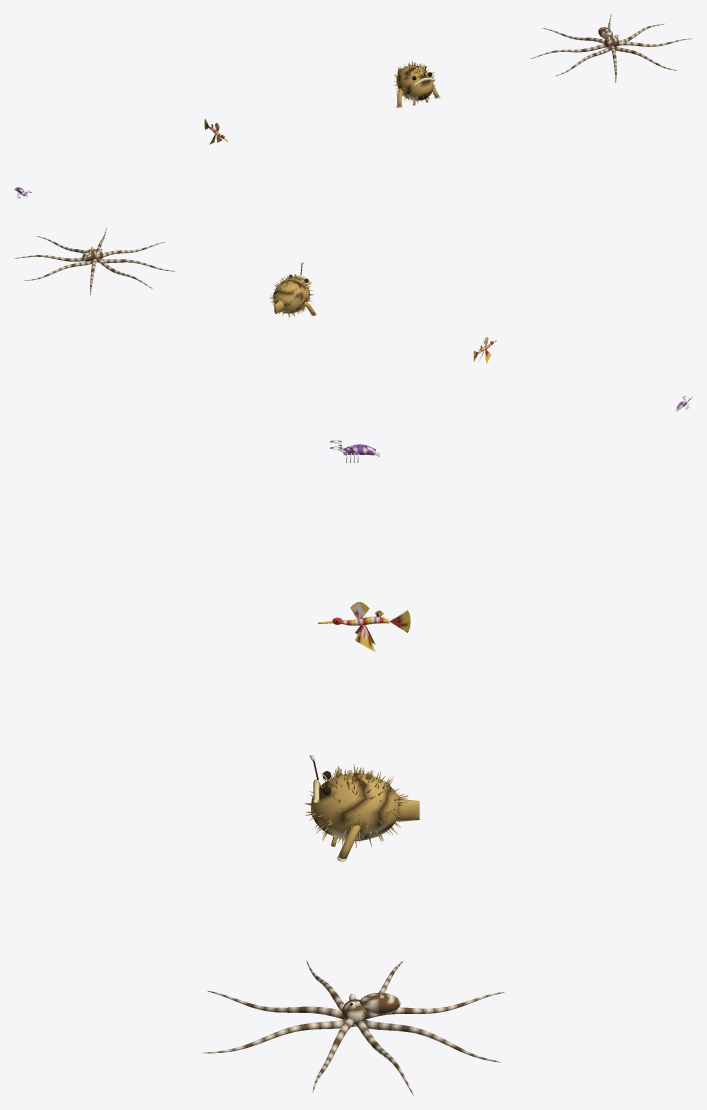
File: reef-minis.glb
The picture shows the model from 3 angles, top to bottom: view 1: azimuth 30°, elevation 25°; view 2: azimuth 150°, elevation 25°; view 3: azimuth 270°, elevation 25°; orthographic projection. The views are drawn at different scales.
Visible parts, largest first — view 1: Mimic_Octopus, Hairy_Frogfish; view 2: Mimic_Octopus, Hairy_Frogfish; view 3: Hairy_Frogfish, Mimic_Octopus, Ghost_Pipefish.
Part boxes in pixels (left/top/right/bottom): Mimic_Octopus: left=530, top=14, right=692, bottom=82; Hairy_Frogfish: left=393, top=61, right=440, bottom=107; Mimic_Octopus: left=14, top=227, right=176, bottom=295; Hairy_Frogfish: left=269, top=262, right=316, bottom=317; Hairy_Frogfish: left=304, top=754, right=419, bottom=861; Mimic_Octopus: left=202, top=960, right=504, bottom=1095; Ghost_Pipefish: left=318, top=602, right=410, bottom=652.
Bounding box in the file's own units: 2.03 × 0.1267 × 0.4014.
